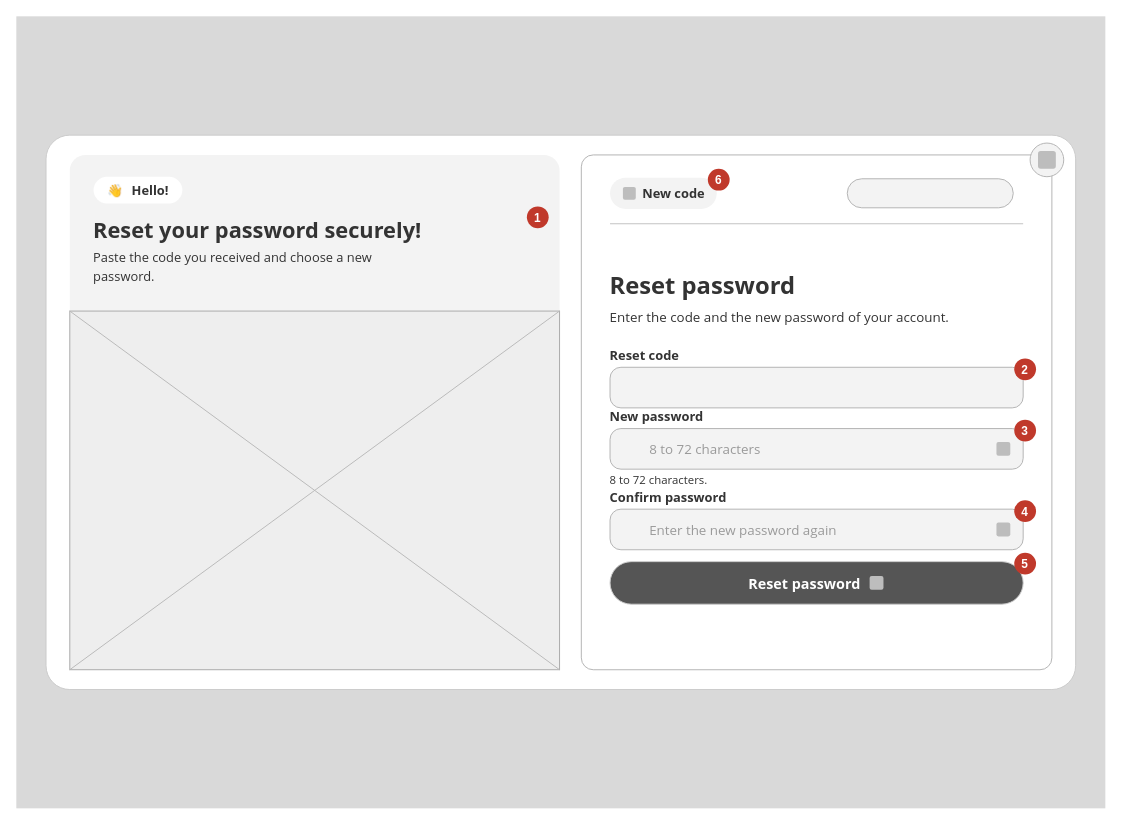
This 1122x825 diagram has some shape labels left out. The centre of each missing label's shape, as x and y in pixels:
"Last step · New password" goes at point 929,193.
"Paste the code from the e-mail" goes at point 816,387.
